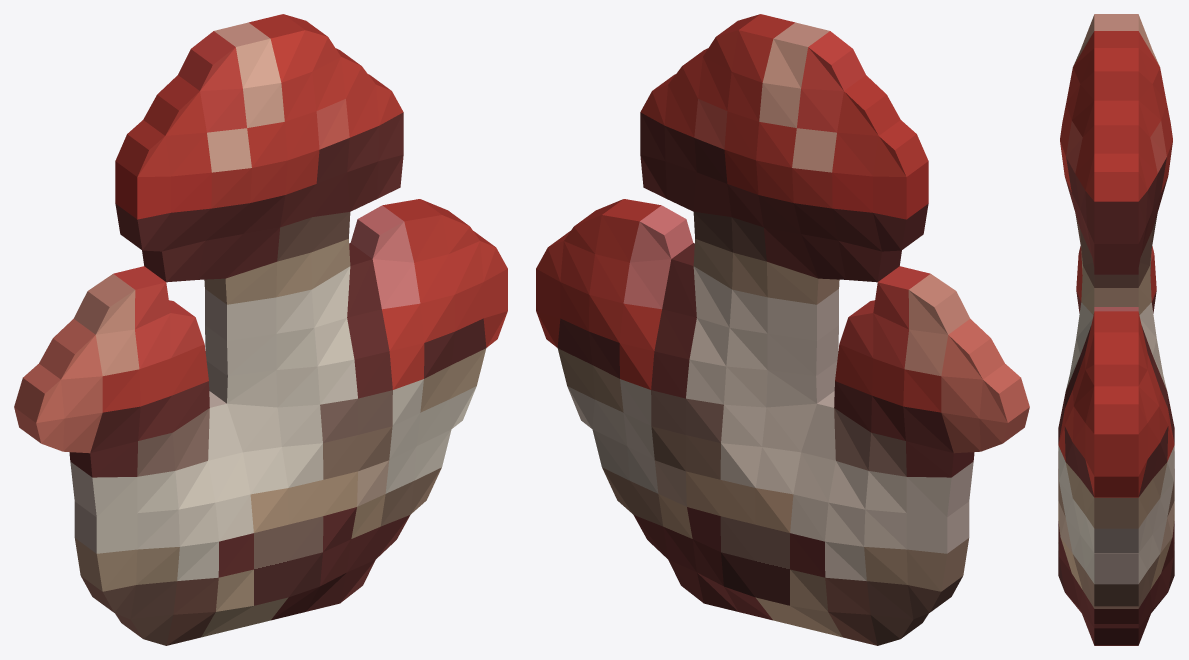
The model's file is mushroom_cluster.glb.
3 renders of one model, left to right at view 1: azimuth 30°, elevation 25°; view 2: azimuth 150°, elevation 25°; view 3: azimuth 270°, elevation 25°, orthographic.
Visible parts, largest first — view 1: mushroom_cluster; view 2: mushroom_cluster; view 3: mushroom_cluster.
Part boxes in pixels (bbox=[...]): mushroom_cluster: bbox=[14, 14, 507, 645]; mushroom_cluster: bbox=[536, 14, 1029, 645]; mushroom_cluster: bbox=[1058, 14, 1174, 645].
Size of the model in its own units: 0.8485 by 1 by 0.1813.
Materials: 1 (1 with a texture image).
